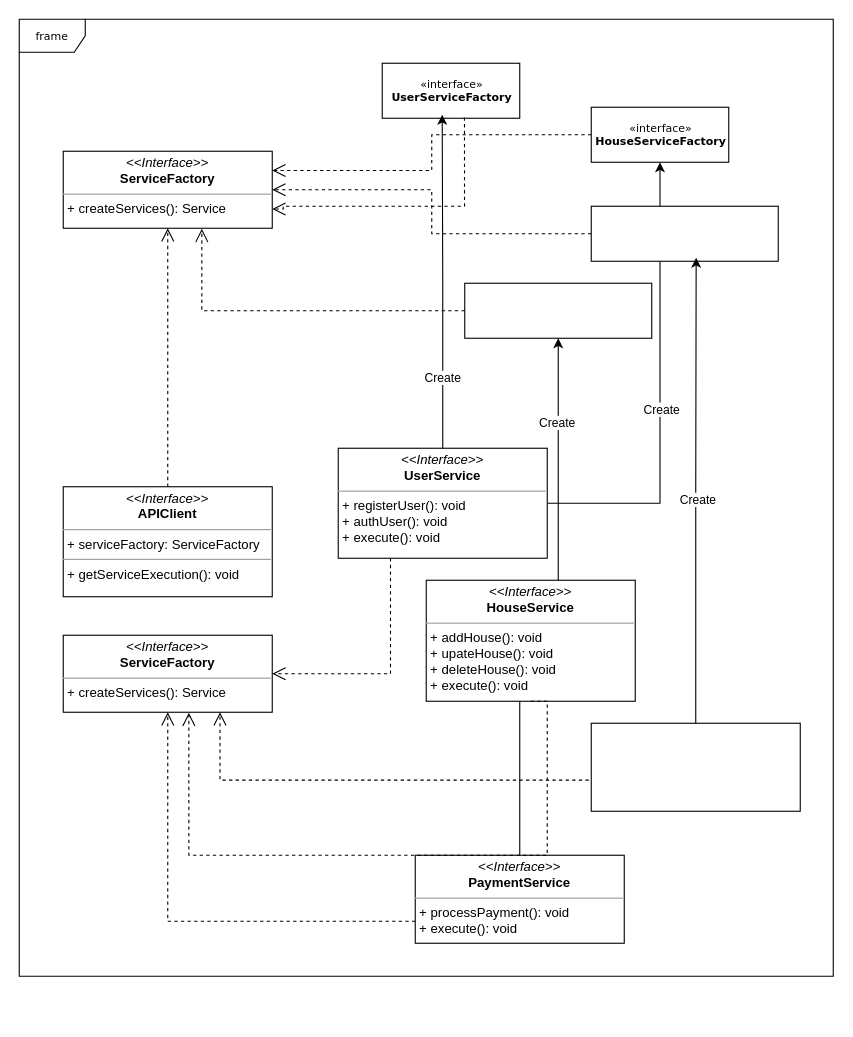
Some shapes in this 853 by 1037 pixel diagram are drawn without their labels. The shapes that lost their labels are listed below. From the top down, each one's box as (x1, y1, x2, y2) in pixels, then its label:
(590, 205, 778, 261): «interface» TransactionServiceFactory
(464, 282, 652, 338): «interface» PaymentServiceFactory
(590, 722, 800, 811): <<Interface>> TransactionService + creteTransaction(): void + execute(): void
